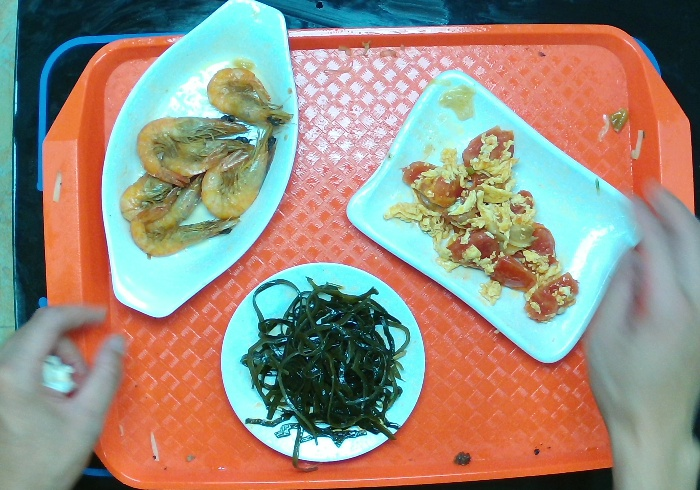RJxy-Si_Fang_Ao_Bian_Wan: (344, 68, 643, 365)
RJxy-Xiao_Yuan_Die: (218, 261, 427, 464)
RJxy-Yu_Pan: (98, 1, 301, 319)
